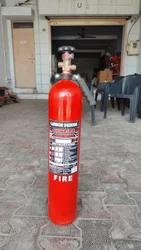floor-kept: (27, 39, 102, 227)
